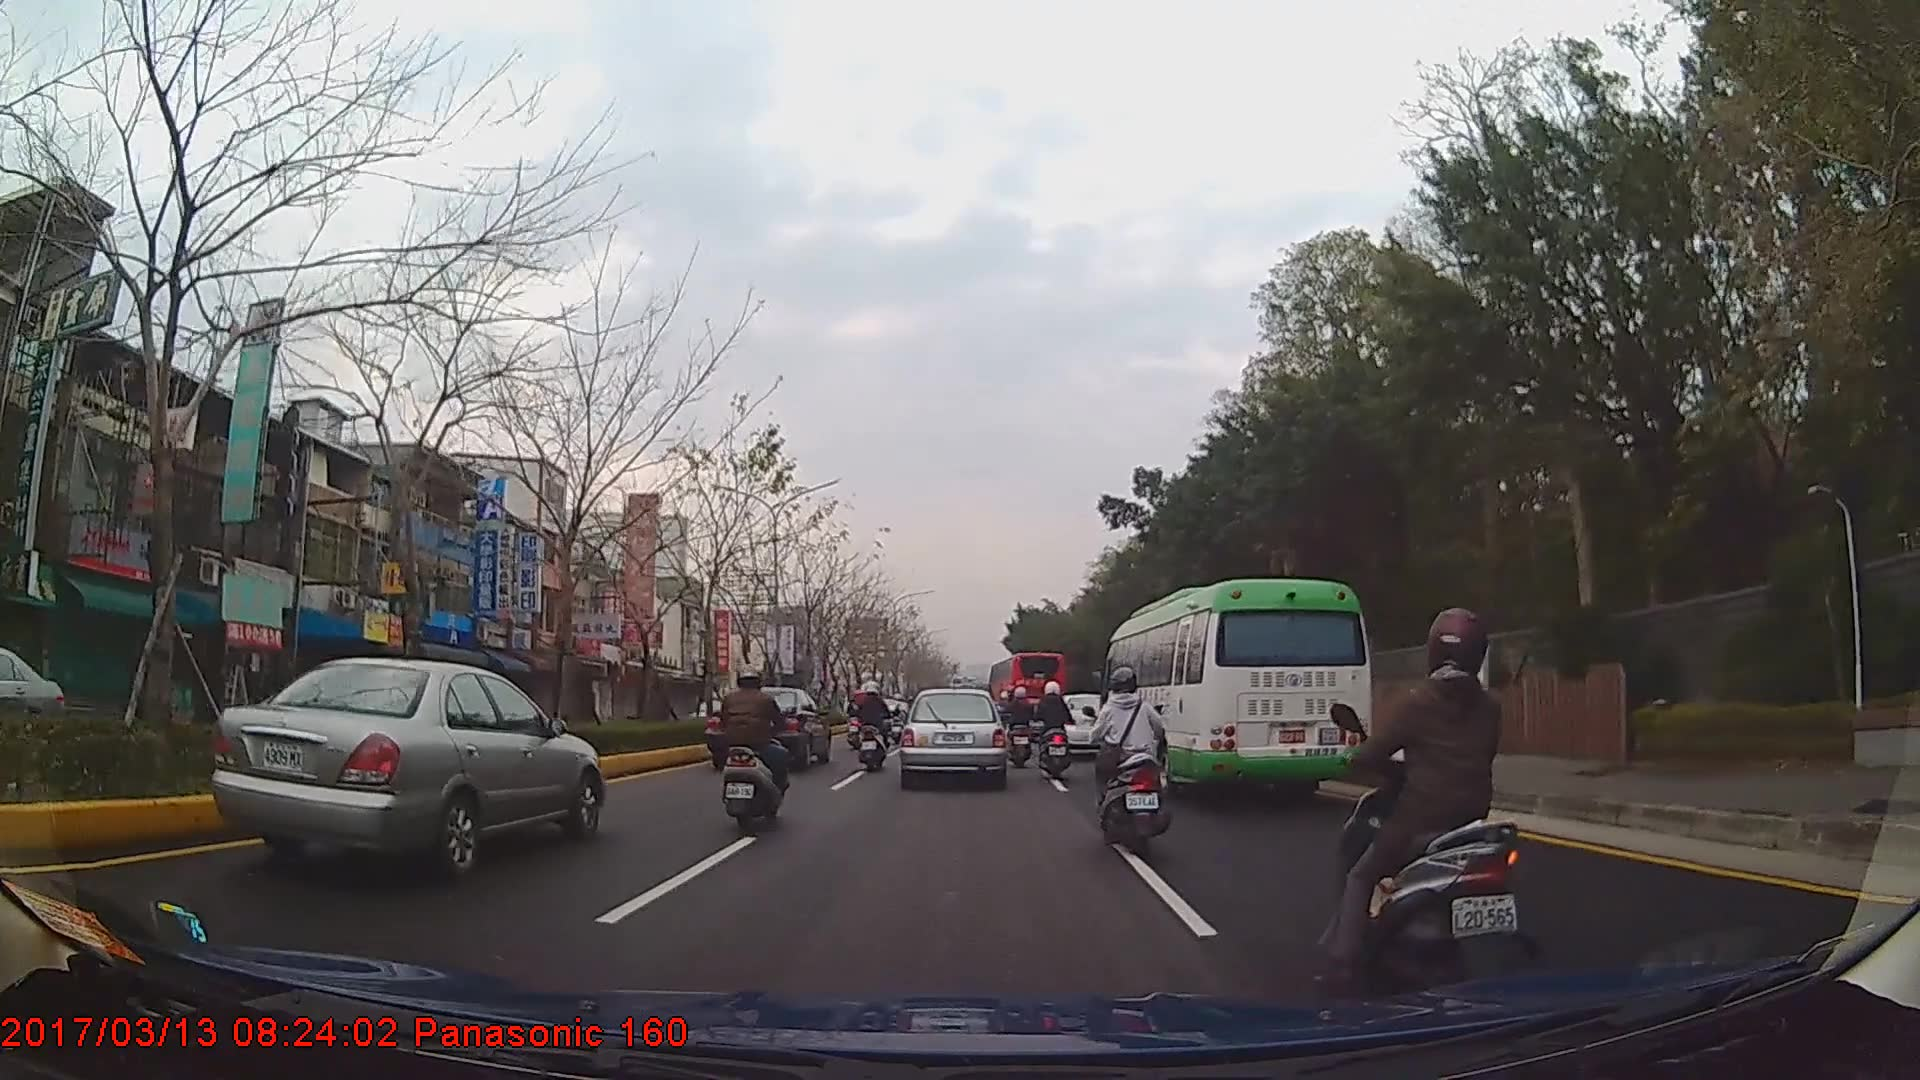rider: (1326, 602, 1526, 1021), (1090, 663, 1171, 857), (716, 667, 790, 831), (1033, 682, 1074, 776), (852, 681, 893, 771), (1003, 683, 1038, 768), (887, 692, 911, 744), (856, 682, 877, 739)
vehicle: (210, 653, 602, 878), (1102, 575, 1372, 803), (900, 685, 1008, 788), (703, 681, 828, 769), (989, 648, 1066, 740), (0, 643, 65, 746)
